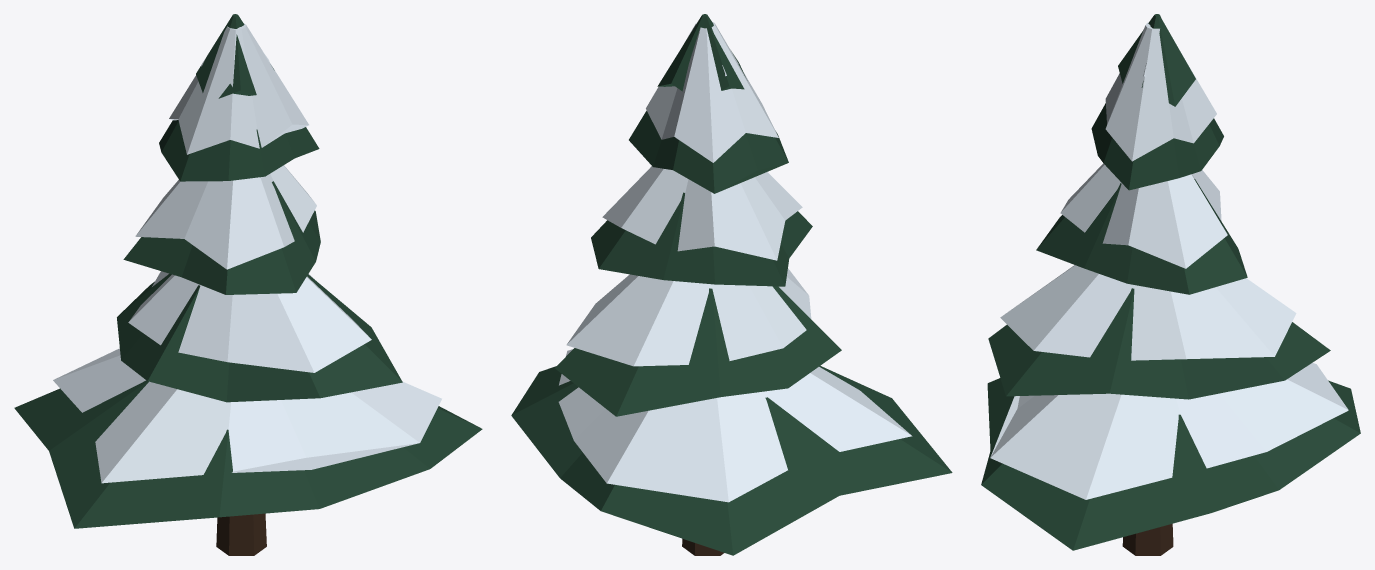
Rendered from Station_Pine_8_0_0.fbx.
3 renders of one model, left to right at view 1: azimuth 30°, elevation 25°; view 2: azimuth 150°, elevation 25°; view 3: azimuth 270°, elevation 25°, orthographic.
Visible parts, largest first — view 1: Station_Pine_8_0_0; view 2: Station_Pine_8_0_0; view 3: Station_Pine_8_0_0.
Boxes of the visible parts, x1,y1,x2,y2 form: Station_Pine_8_0_0: (14,14,482,555); Station_Pine_8_0_0: (511,14,952,555); Station_Pine_8_0_0: (981,14,1360,555).
Size of the model in its own units: 485 by 600 by 389.
